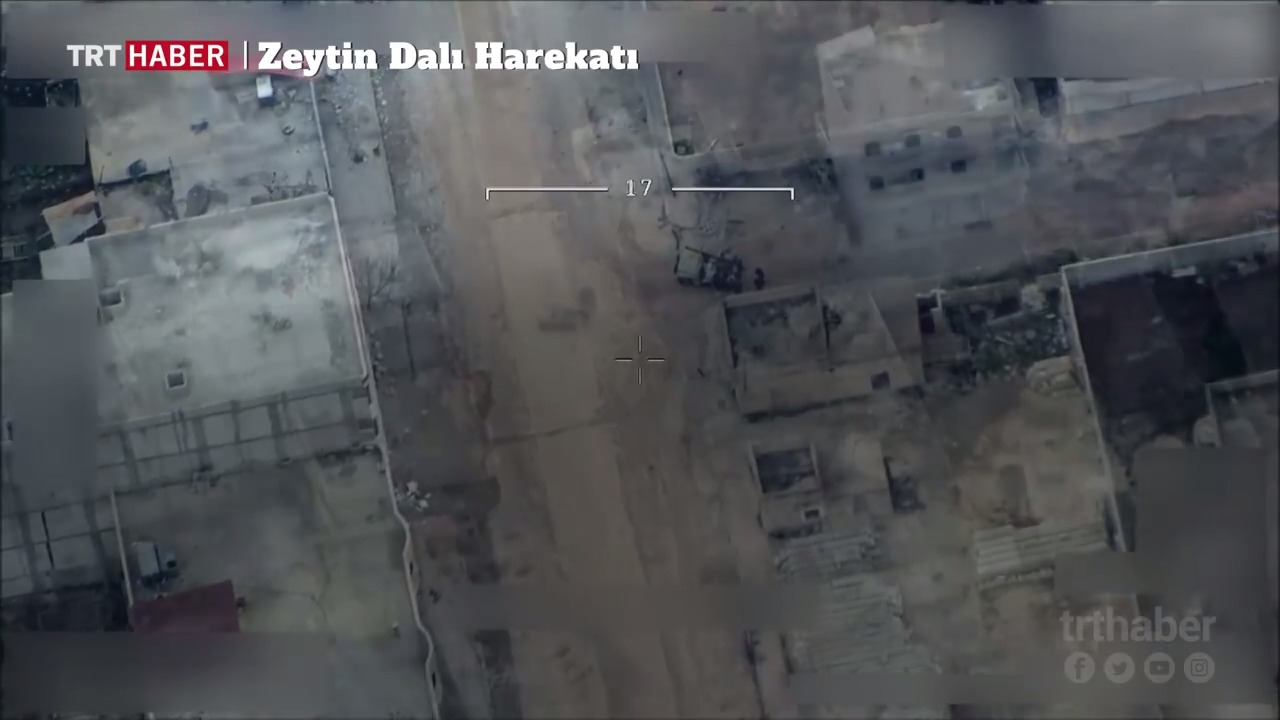arac: (674, 249, 750, 286)
bina: (717, 284, 938, 413), (747, 426, 903, 525)
insan: (750, 261, 767, 292)
